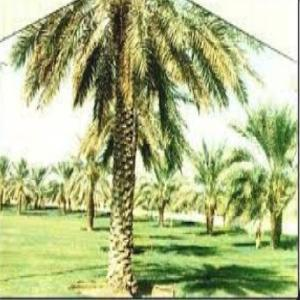palm tree: (2, 0, 297, 295), (231, 100, 297, 248), (193, 136, 229, 234), (8, 156, 32, 212)
